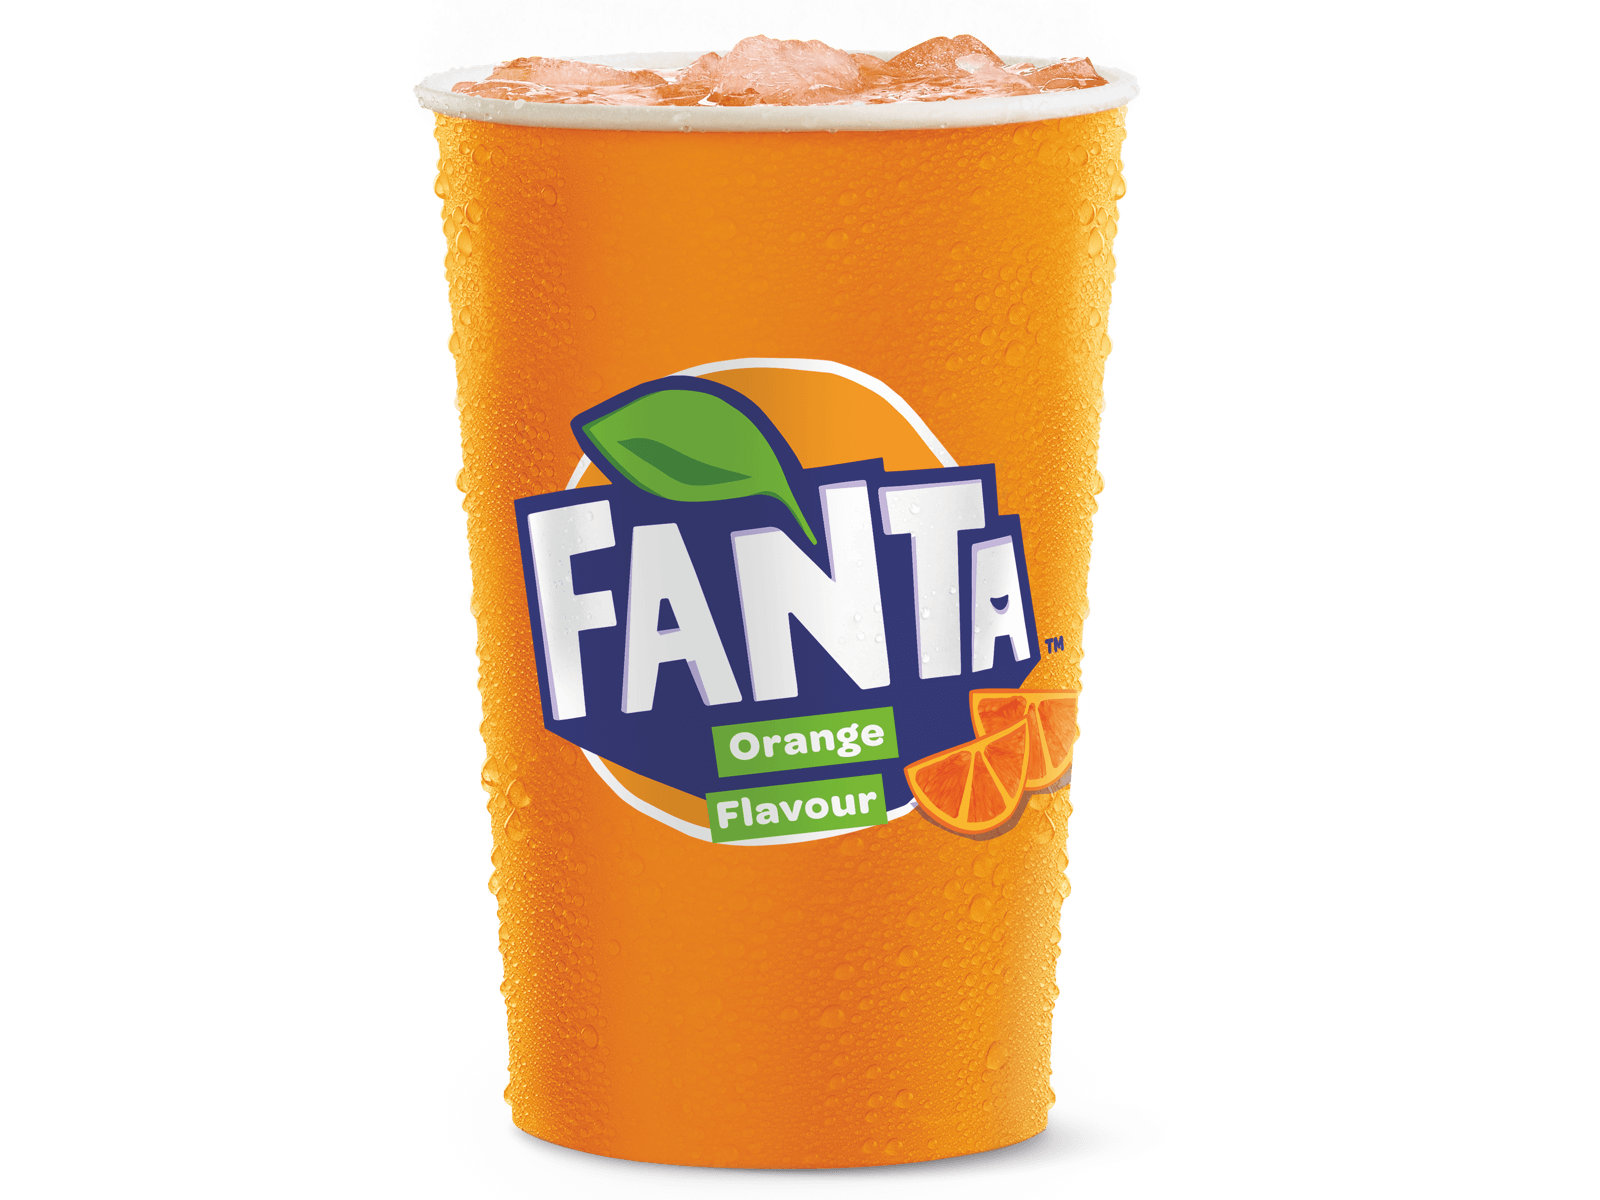Fanta: (452, 58, 1140, 1179)
